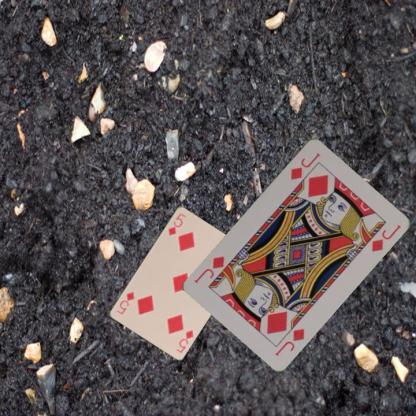5d: (165, 210, 187, 238), (173, 327, 195, 354)
Jd: (272, 325, 306, 357), (288, 150, 322, 180)
